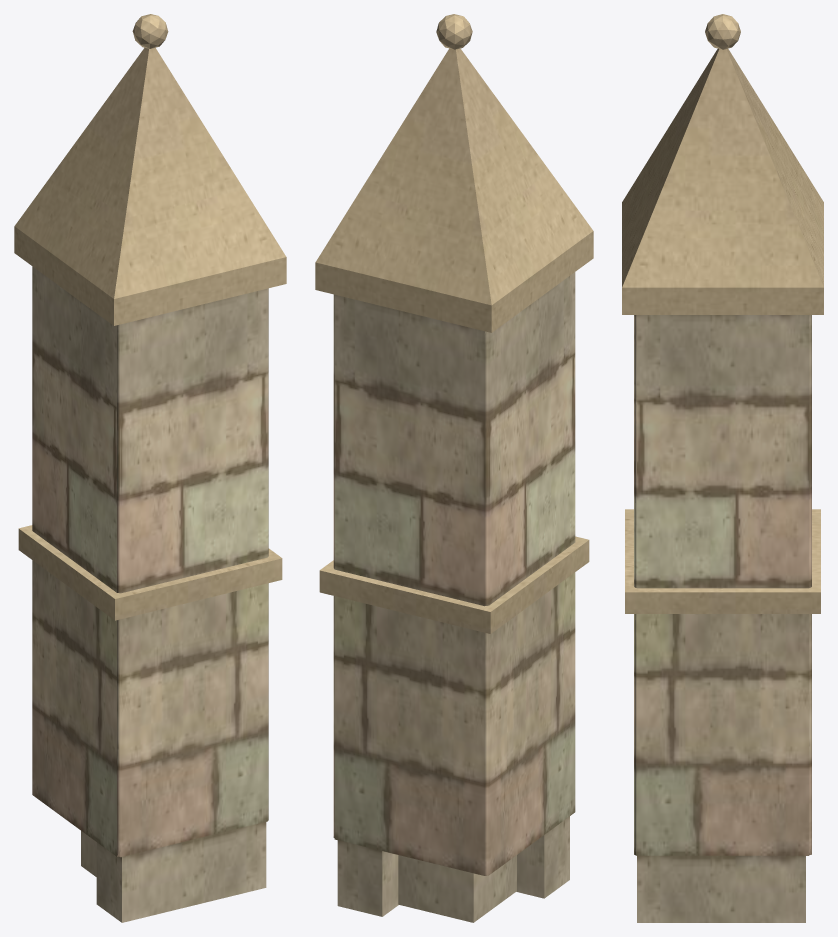
Rendered from f_corner_p.glb.
3 views of the same model, side by side, from view 1: azimuth 30°, elevation 25°; view 2: azimuth 150°, elevation 25°; view 3: azimuth 270°, elevation 25° (orthographic). The views are drawn at different scales.
Visible parts, largest first — view 1: f_corner_p_terra, f_corner_p_terra2; view 2: f_corner_p_terra, f_corner_p_terra2; view 3: f_corner_p_terra, f_corner_p_terra2.
Boxes of the visible parts, left/top/right/bottom form: f_corner_p_terra: left=32, top=266, right=268, bottom=922; f_corner_p_terra2: left=14, top=14, right=286, bottom=620; f_corner_p_terra: left=333, top=272, right=575, bottom=922; f_corner_p_terra2: left=315, top=14, right=593, bottom=633; f_corner_p_terra: left=634, top=315, right=811, bottom=922; f_corner_p_terra2: left=622, top=14, right=823, bottom=613.
Bounding box in the file's own units: 0.67 × 3.19 × 0.67.
Materials: 2 (2 with a texture image).
